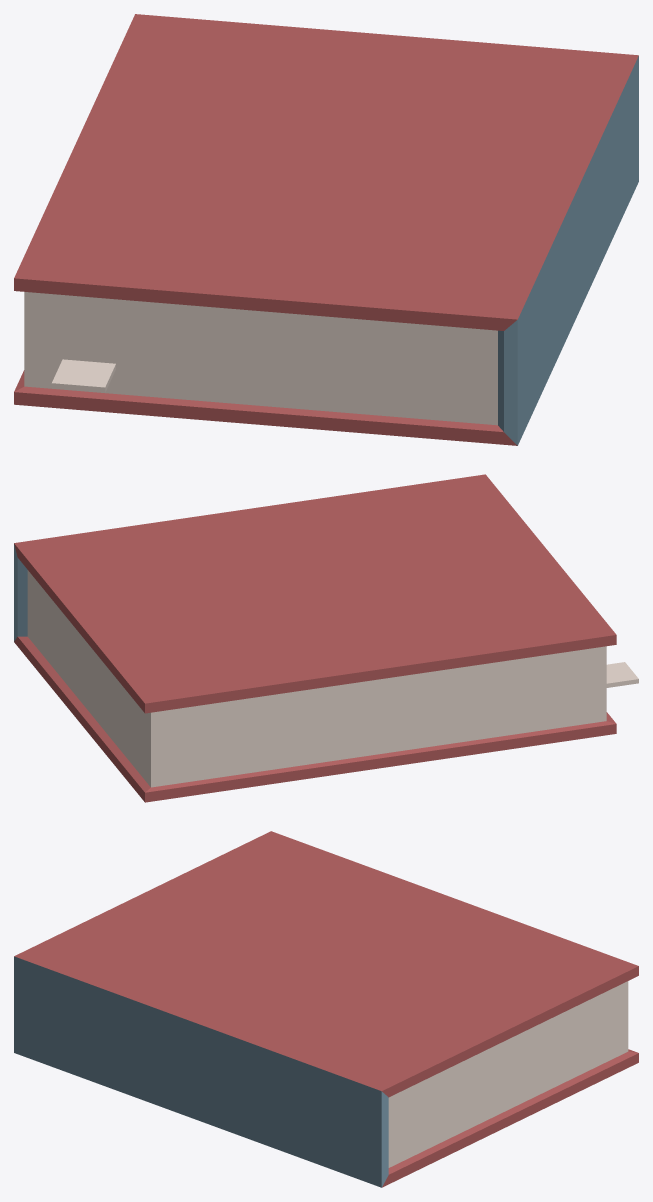
The model's file is Book_6.fbx.
3 views of the same model, one above another, from view 1: azimuth 30°, elevation 25°; view 2: azimuth 150°, elevation 25°; view 3: azimuth 270°, elevation 25° (orthographic). The views are drawn at different scales.
Visible parts, largest first — view 1: Book_6; view 2: Book_6; view 3: Book_6.
Part boxes in pixels (<box>): Book_6: <box>14,14,638,445</box>; Book_6: <box>14,474,638,802</box>; Book_6: <box>14,831,638,1187</box>.
Size of the model in its own units: 42 by 42.64 by 7.27.
